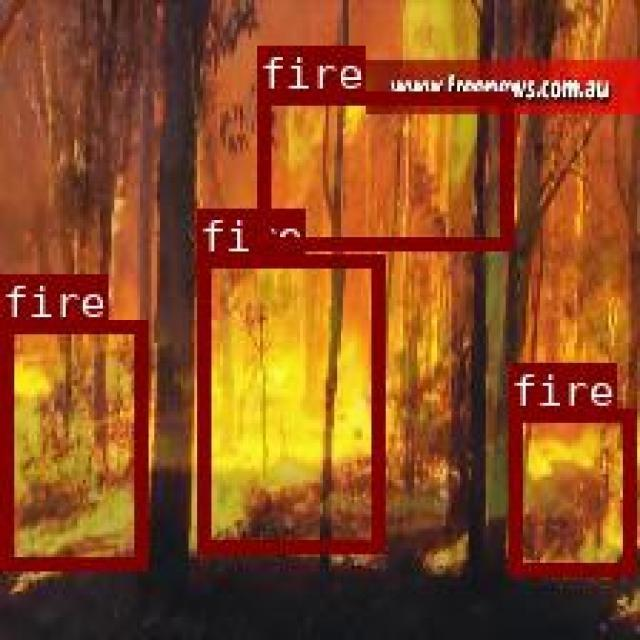fire: (196, 252, 382, 549), (257, 89, 509, 247), (0, 320, 146, 566), (508, 406, 634, 574)
